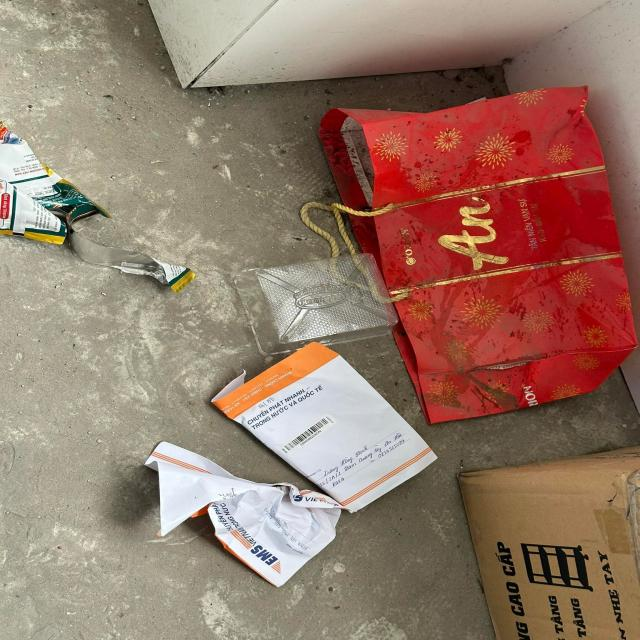bag: (316, 87, 640, 422)
paper: (212, 343, 436, 514), (146, 439, 342, 588)
plastic holder: (237, 252, 398, 355)
snack package: (0, 121, 198, 292)
